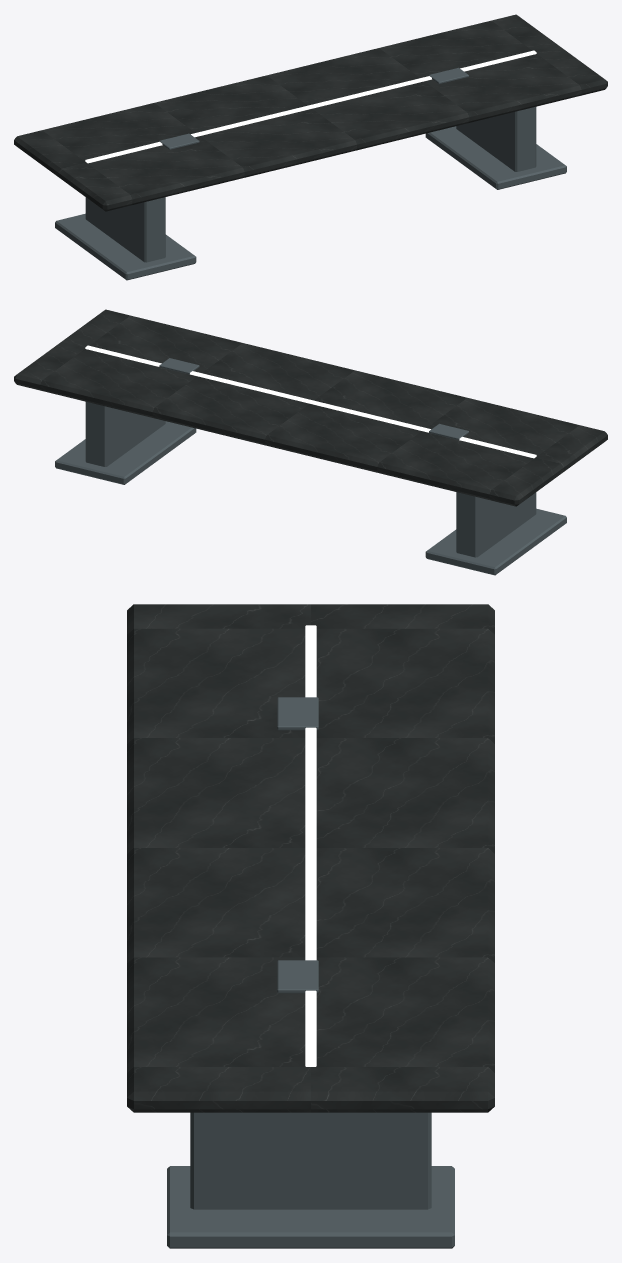
Rendered from ConferenceTable.glb.
3 renders of one model, top to bottom at view 1: azimuth 30°, elevation 25°; view 2: azimuth 150°, elevation 25°; view 3: azimuth 270°, elevation 25°, orthographic. The views are drawn at different scales.
Visible parts, largest first — view 1: ConferenceTable__BlackMarble__mesh, ConferenceTable__BlackenedSteel__mesh, ConferenceTable__WarmWhiteDiffuser__mesh; view 2: ConferenceTable__BlackMarble__mesh, ConferenceTable__BlackenedSteel__mesh, ConferenceTable__WarmWhiteDiffuser__mesh; view 3: ConferenceTable__BlackMarble__mesh, ConferenceTable__BlackenedSteel__mesh, ConferenceTable__WarmWhiteDiffuser__mesh.
Part boxes in pixels (box(x1,y1,x2,y2)): ConferenceTable__BlackMarble__mesh: box(14, 14, 607, 211); ConferenceTable__BlackenedSteel__mesh: box(55, 67, 566, 280); ConferenceTable__WarmWhiteDiffuser__mesh: box(85, 50, 536, 163); ConferenceTable__BlackMarble__mesh: box(14, 309, 607, 506); ConferenceTable__BlackenedSteel__mesh: box(55, 358, 566, 575); ConferenceTable__WarmWhiteDiffuser__mesh: box(85, 345, 536, 458); ConferenceTable__BlackMarble__mesh: box(127, 604, 494, 1112); ConferenceTable__BlackenedSteel__mesh: box(167, 697, 454, 1248); ConferenceTable__WarmWhiteDiffuser__mesh: box(305, 625, 316, 1066).
Size of the model in its own units: 4.5 by 0.815 by 1.42.
3 materials, 1 textured.
